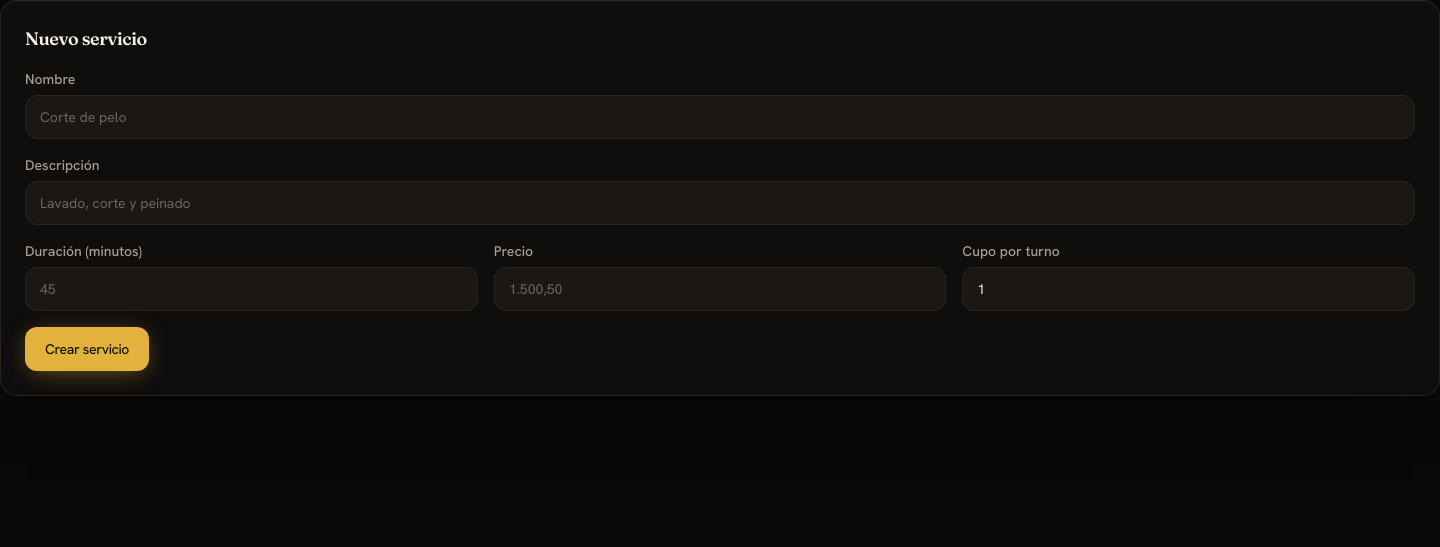
Test: ServiceForm › ofrece agregar un profesional después de guardar el servicio
Click the button "Crear servicio". click: coordinates (87, 349)
box: x1=25 y1=327 x2=149 y2=371
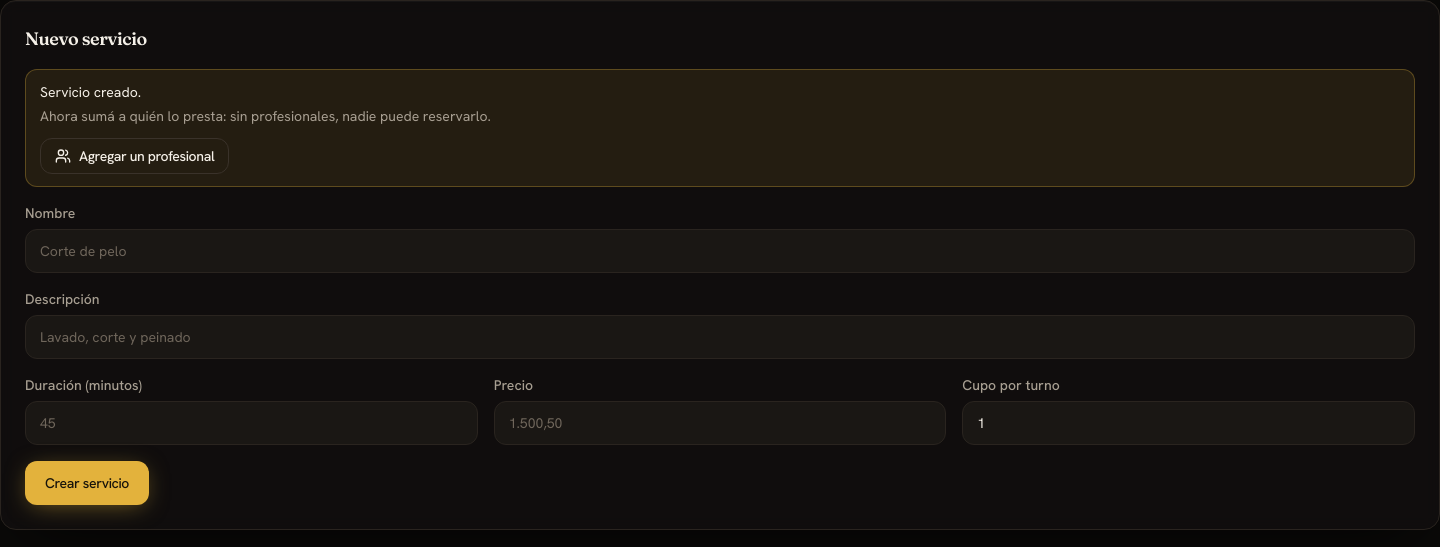
Result: the text "Servicio creado." is shown at x1=40 y1=83 x2=141 y2=101
